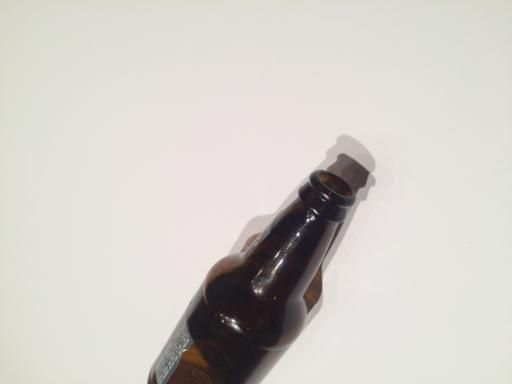botolkaca: (146, 171, 357, 384)
